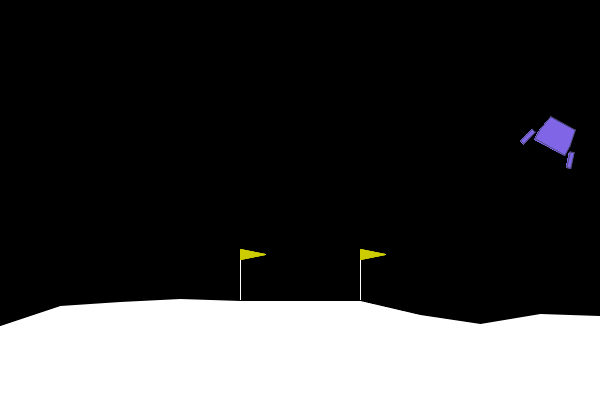lander: (518, 107, 590, 171)
